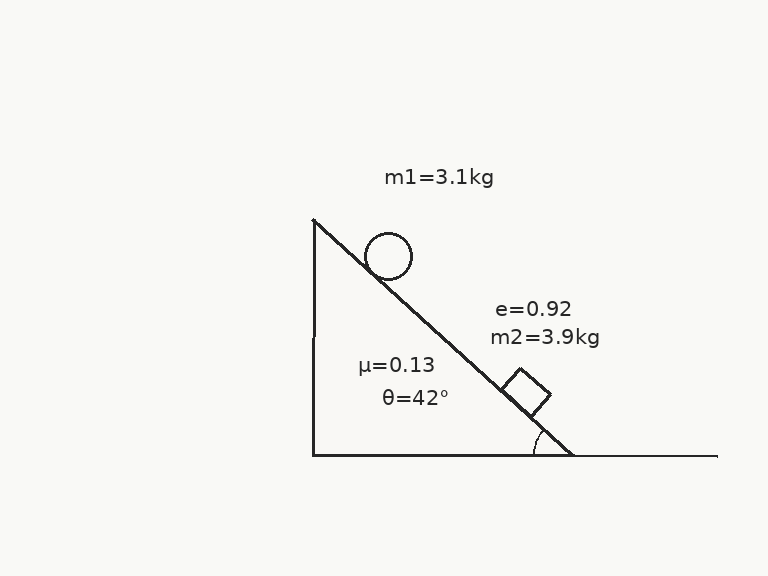ball: (362, 230, 414, 282)
block: (499, 366, 552, 418)
ramp: (310, 217, 576, 457)
